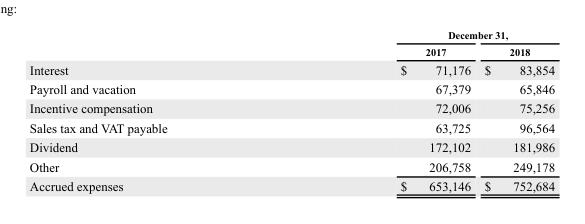table: (28, 28, 554, 192)
table column: (28, 28, 283, 192), (283, 28, 476, 192), (476, 28, 554, 192)
table column header: (28, 28, 554, 59)
table row: (28, 59, 554, 79), (28, 117, 554, 137), (28, 79, 554, 98), (28, 98, 554, 117), (28, 137, 554, 156), (28, 156, 554, 175), (28, 175, 554, 192), (28, 43, 554, 59), (28, 28, 554, 43)
table spanning cell: (283, 28, 554, 43)
